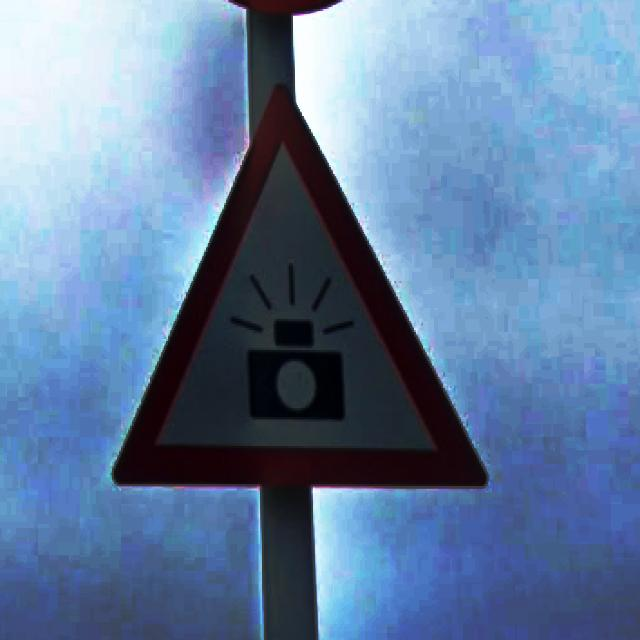speedcamera: (110, 80, 488, 491)
